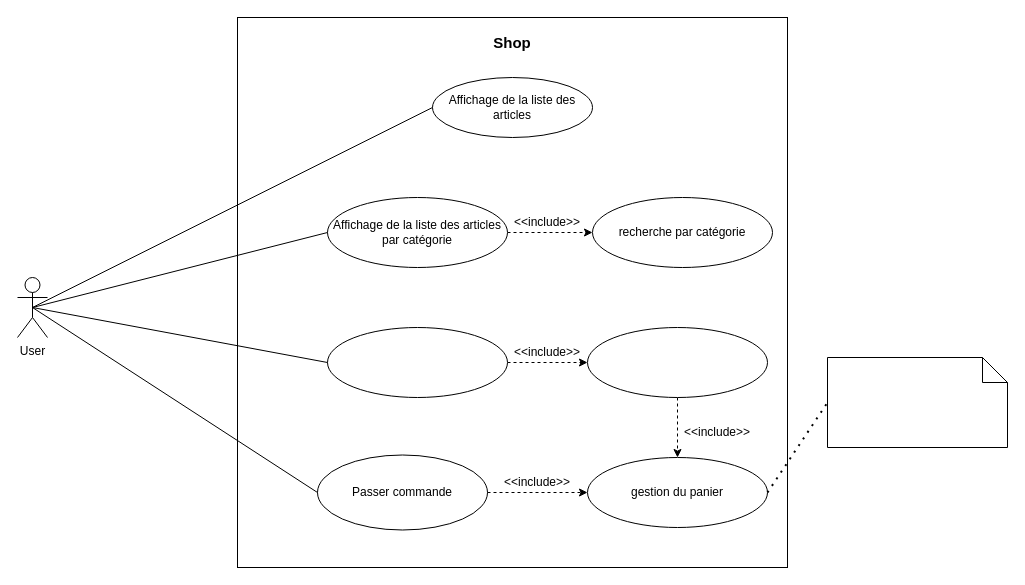
The diagram is 1025 pixels wide and 585 high, and some of its shapes have lost their labels. Each missing label, with the box of its shape:
Affichage du panier: (586, 326, 768, 398)
Ajout d'un article au panier: (326, 326, 508, 398)
Supprimer un article Augmenter et réduire la quantité d'un article: (826, 356, 1008, 448)
